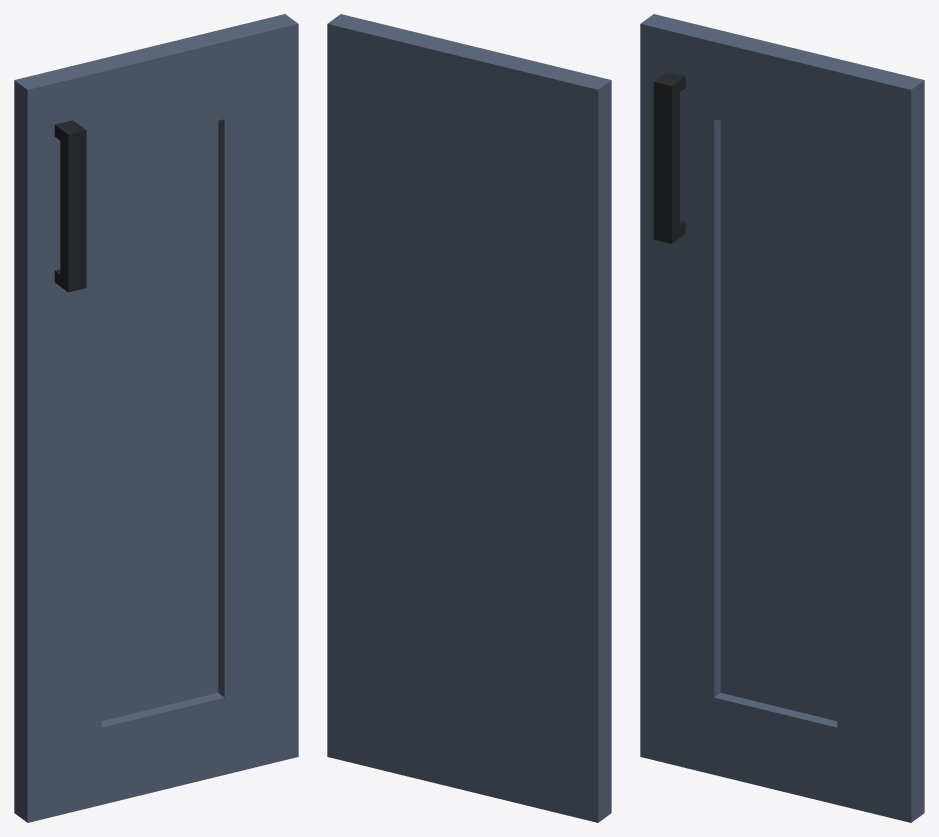
Rendered from Door2_C4_03.fbx.
The picture shows the model from 3 angles, left to right: view 1: azimuth 30°, elevation 25°; view 2: azimuth 150°, elevation 25°; view 3: azimuth 330°, elevation 25°; orthographic projection.
Parts seen in each view (by area): view 1: Door2_C4_03; view 2: Door2_C4_03; view 3: Door2_C4_03.
Part boxes in pixels (box(x1,y1,x2,y2)): Door2_C4_03: box(14, 14, 298, 822); Door2_C4_03: box(327, 14, 611, 822); Door2_C4_03: box(640, 14, 924, 822).
Size of the model in its own units: 29 by 75 by 5.03.
